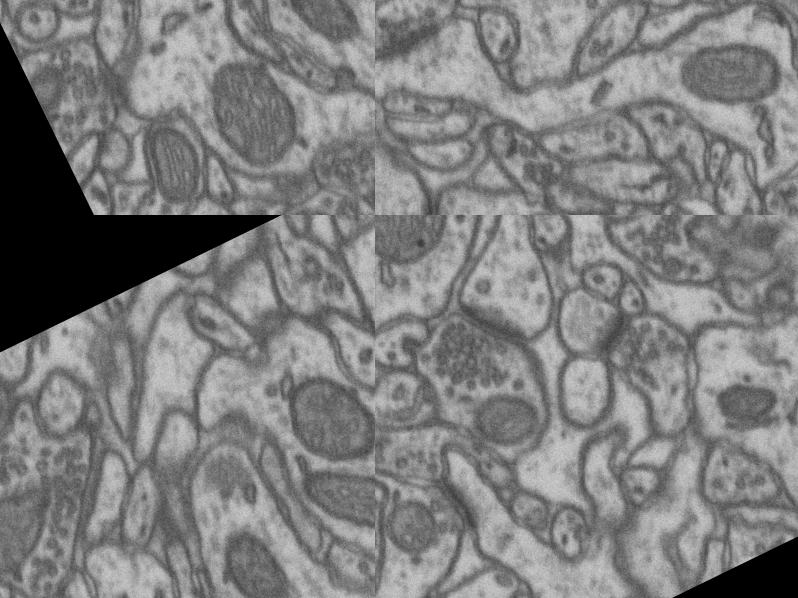mitochondria: (185, 39, 315, 185), (269, 350, 375, 489), (688, 8, 798, 136), (297, 411, 375, 574), (0, 458, 88, 589), (120, 105, 220, 215), (446, 372, 547, 470), (204, 512, 300, 598), (375, 478, 458, 570), (706, 358, 796, 441), (620, 84, 709, 166), (375, 215, 470, 288), (267, 0, 374, 64), (22, 48, 86, 118), (0, 356, 26, 490), (476, 188, 581, 215), (262, 190, 365, 215), (425, 576, 535, 598), (496, 587, 632, 598)
